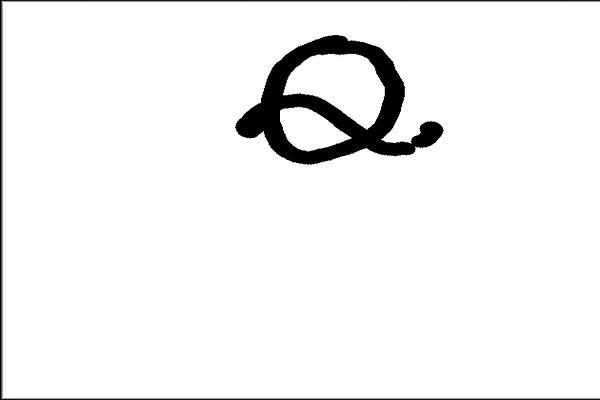Q: (231, 20, 452, 162)
